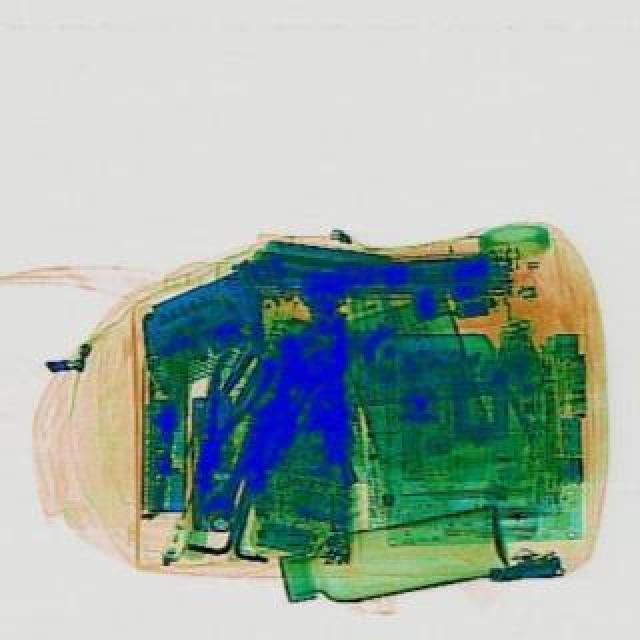wrench: (172, 344, 272, 496)
